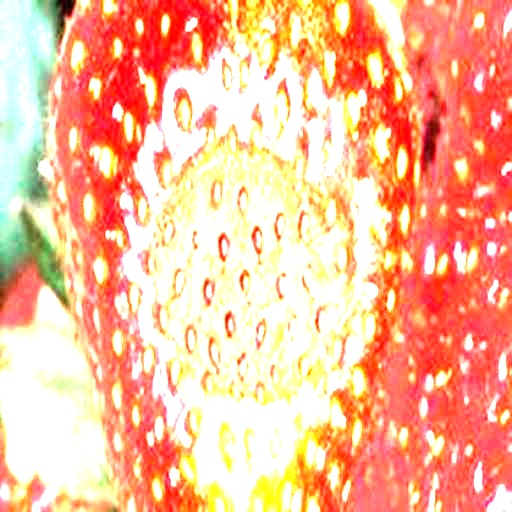Anthracnose Fruit Rot: (112, 117, 370, 429)
